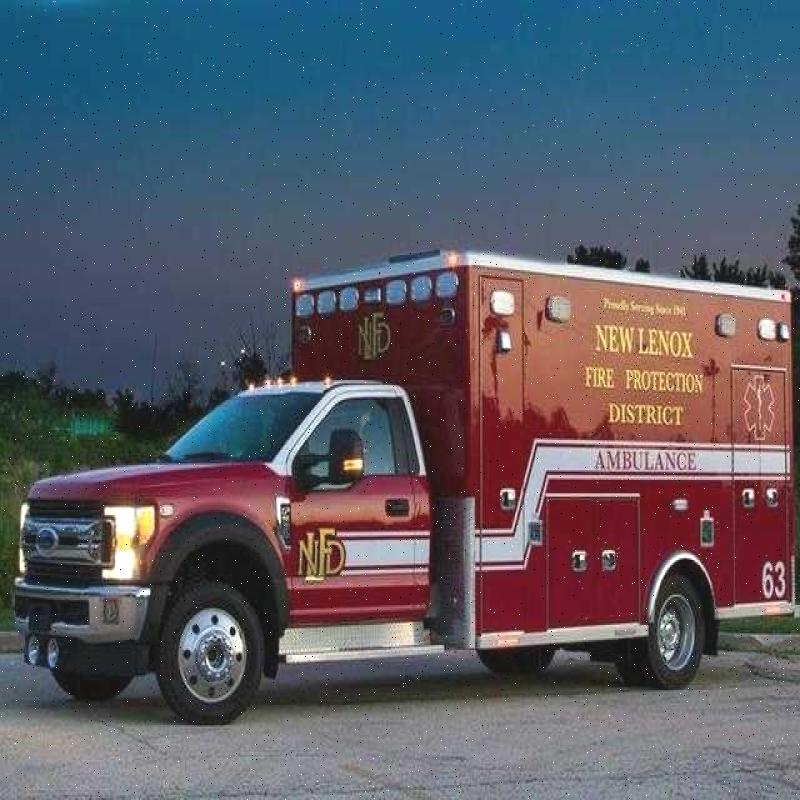AmbulanceSiren: (292, 275, 464, 328)
